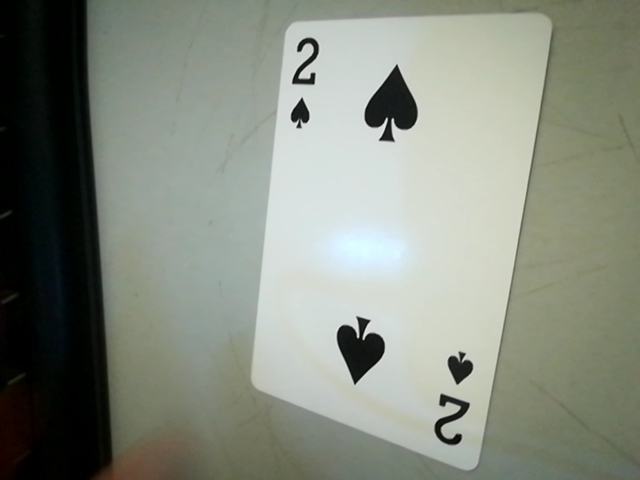ht 2: (277, 25, 333, 138)
